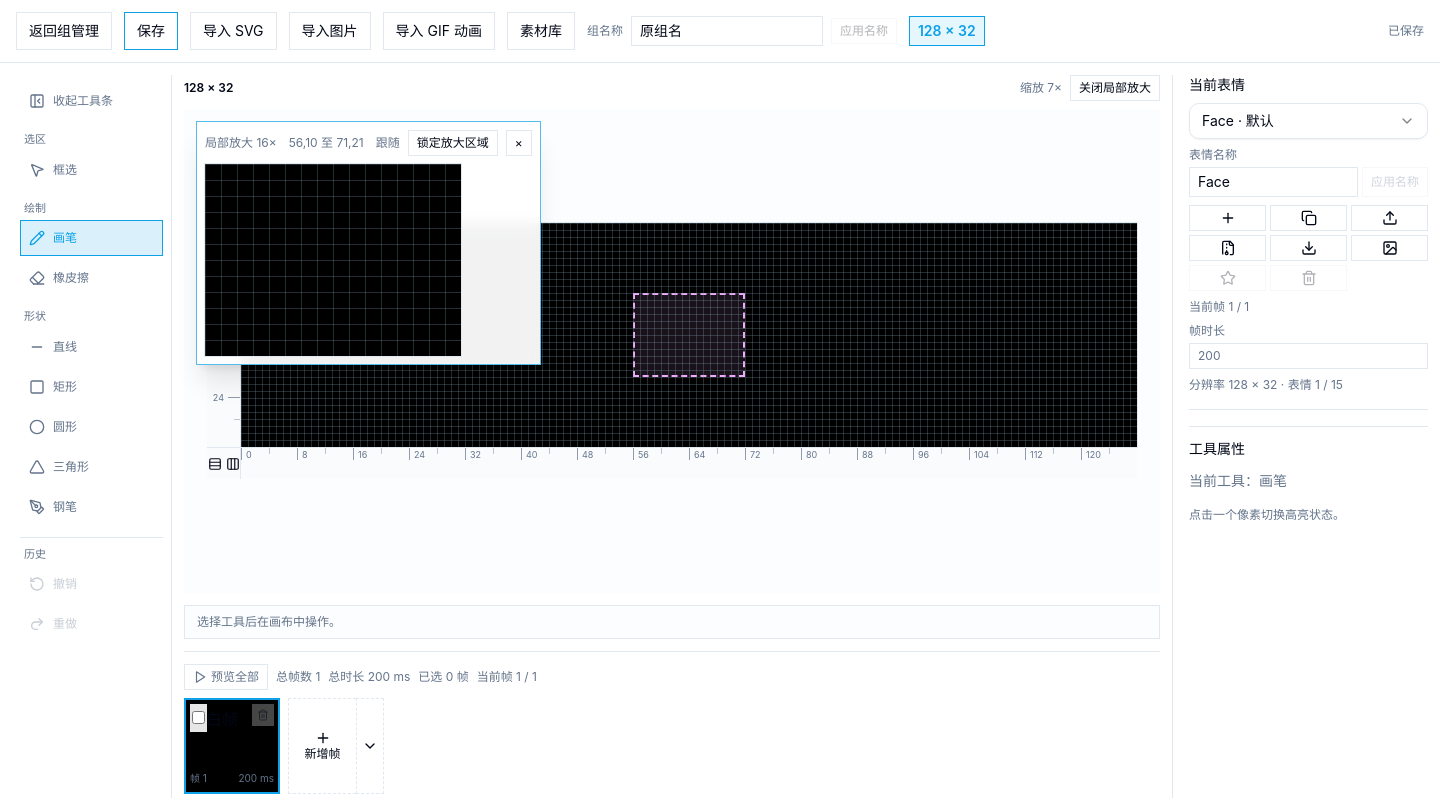
imports a compatible face into the reducer draft without saving the group
Click the button named "导入单个表情": click(1390, 218) top-left (1351, 205), bottom-right (1428, 231)
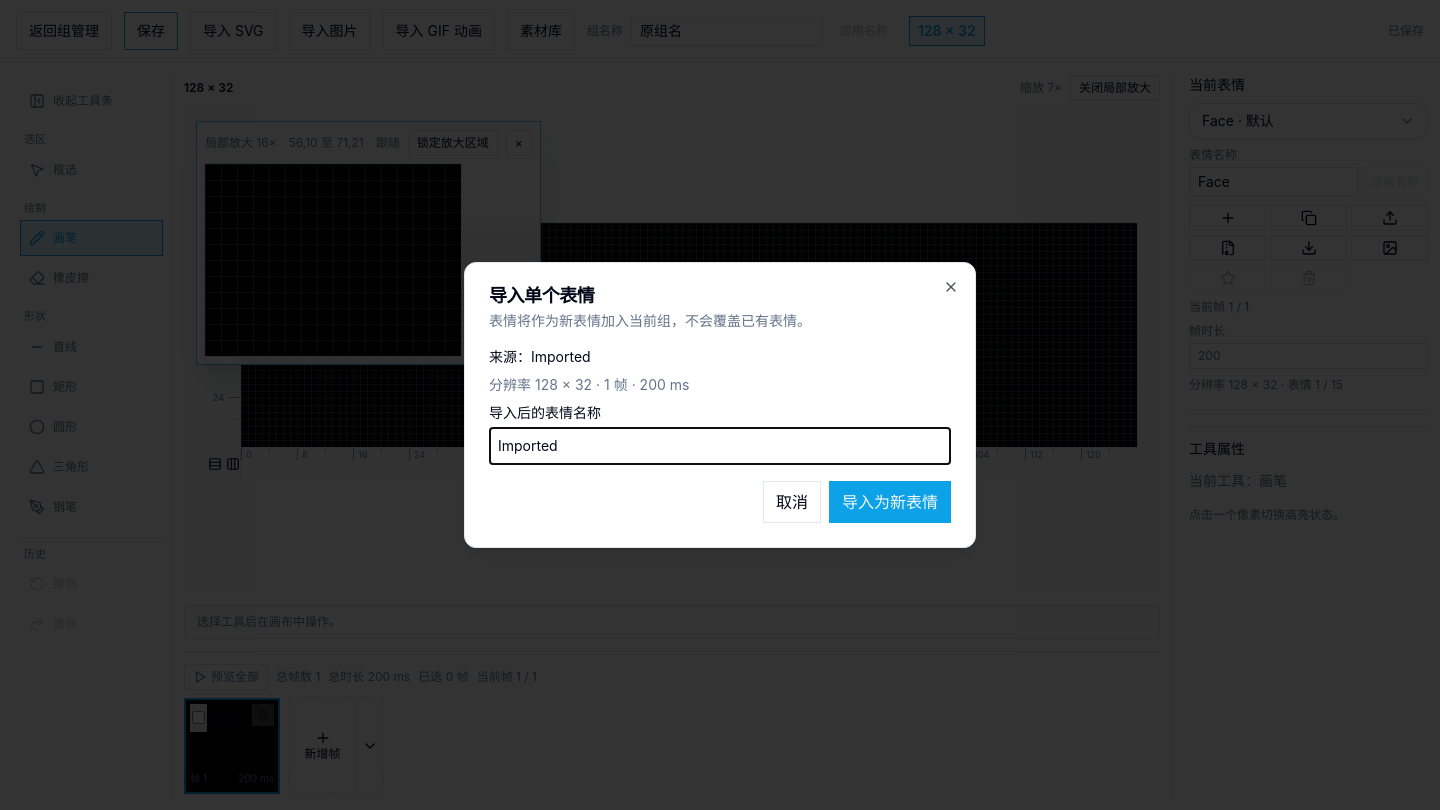
expect the dialog "导入单个表情" is shown: met, box top-left (464, 262), bottom-right (976, 548)
Click the button "导入为新表情": click(890, 502) top-left (829, 481), bottom-right (951, 523)
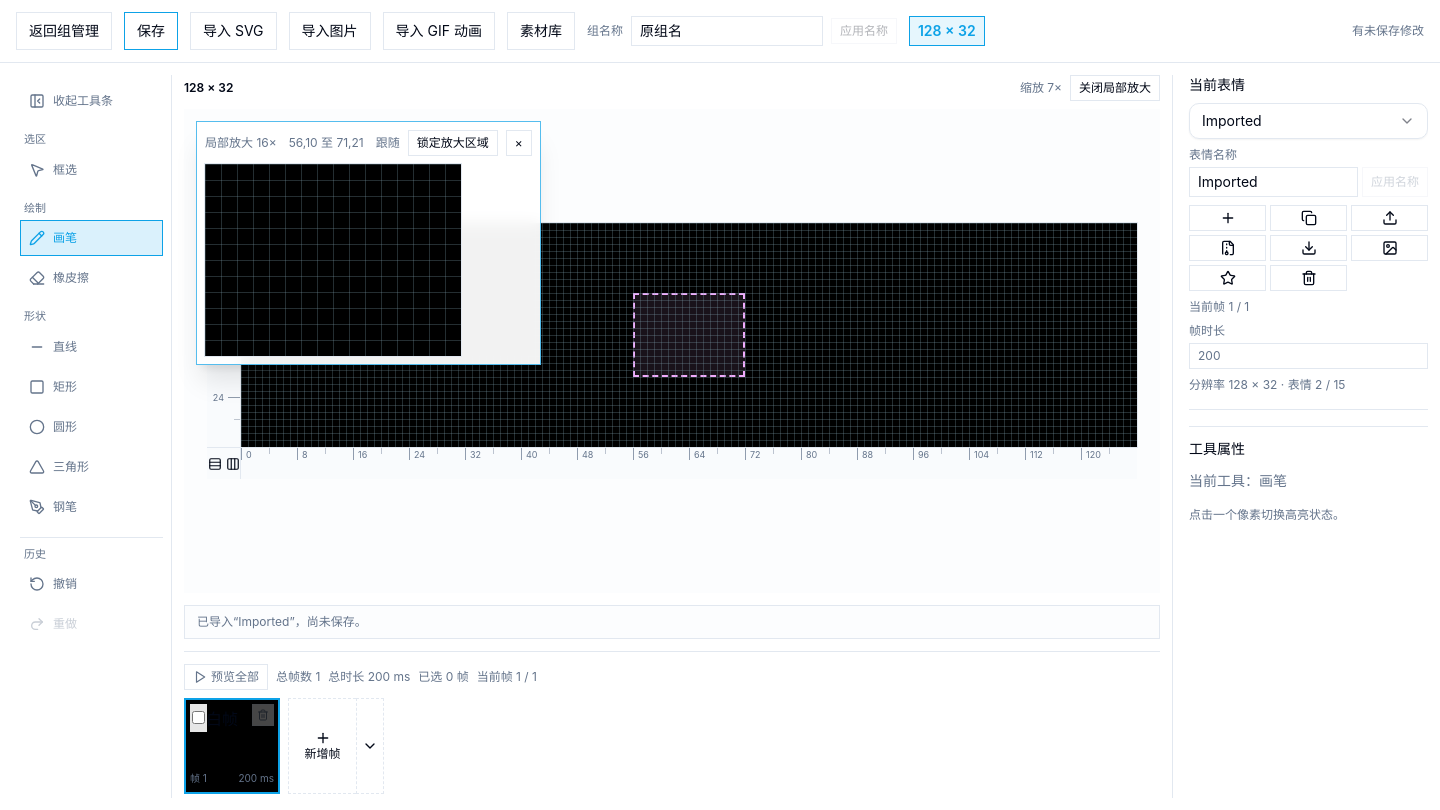
expect the field labelled "表情名称" holds "Imported": met, box top-left (1189, 167), bottom-right (1358, 197)
expect the text "有未保存修改" is shown: met, box top-left (1352, 23), bottom-right (1424, 39)
